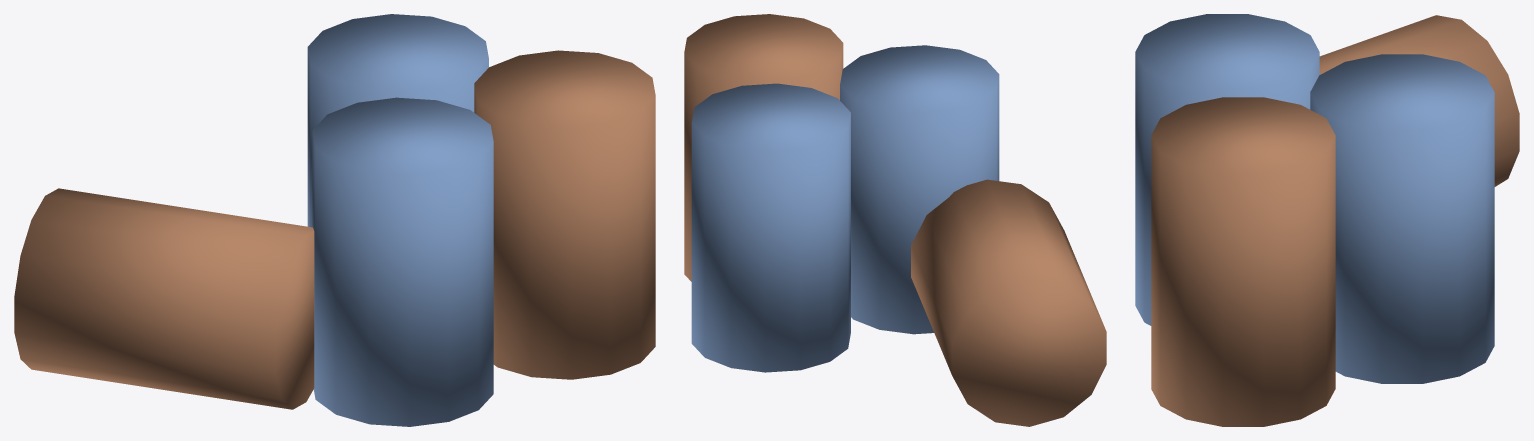
The model's file is ind_drums.glb.
The picture shows the model from 3 angles, left to right: view 1: azimuth 30°, elevation 25°; view 2: azimuth 150°, elevation 25°; view 3: azimuth 270°, elevation 25°; orthographic projection. The views are drawn at different scales.
Parts seen in each view (by area): view 1: ind_drums; view 2: ind_drums; view 3: ind_drums.
Boxes of the visible parts, left/top/right/bottom form: ind_drums: left=14, top=14, right=655, bottom=426; ind_drums: left=684, top=14, right=1106, bottom=426; ind_drums: left=1135, top=14, right=1519, bottom=426.
Bounding box in the file's own units: 2 × 0.88 × 1.21.
